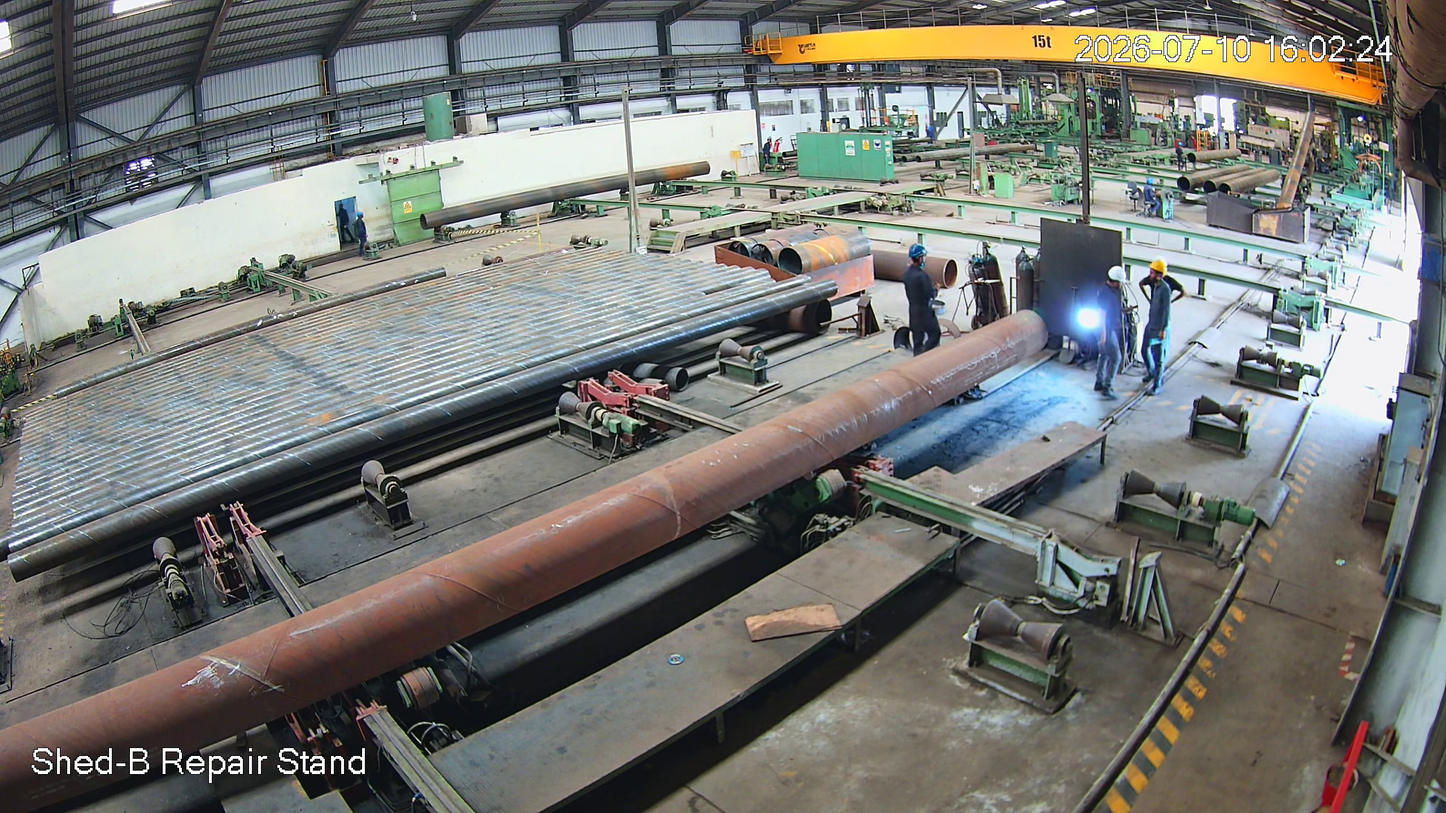Helmet: (904, 240, 937, 274), (1103, 260, 1130, 296), (1147, 256, 1168, 289), (355, 211, 365, 220)
Person: (898, 244, 946, 358), (1096, 261, 1132, 396), (1142, 262, 1172, 397), (353, 212, 369, 260)
